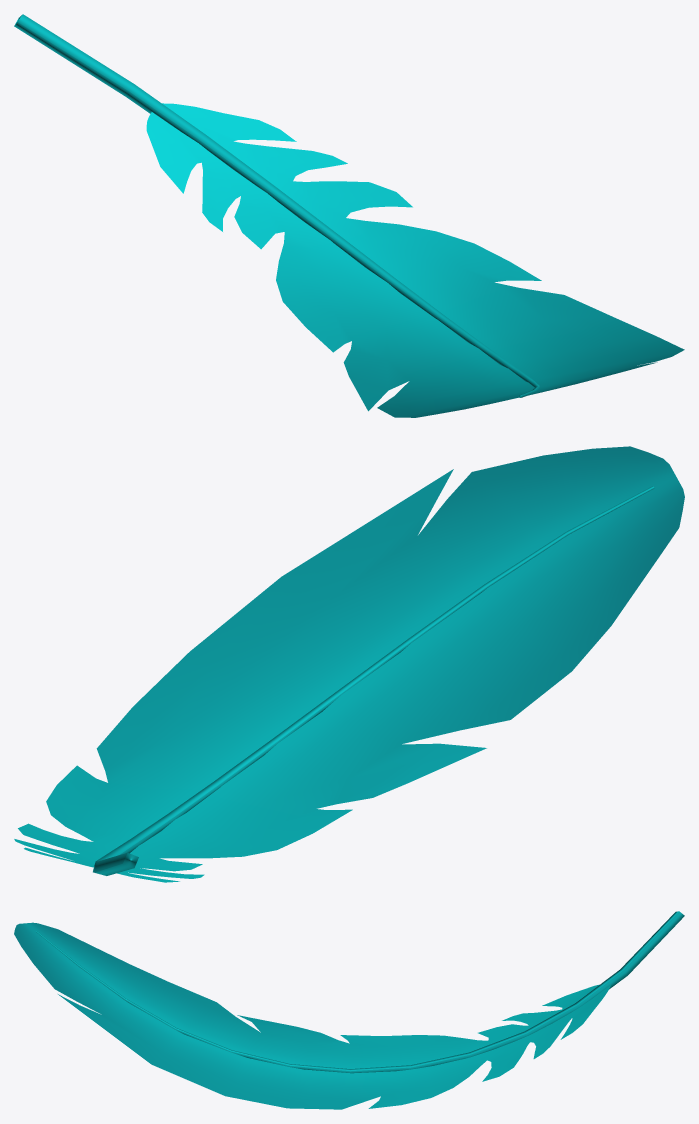
The model's file is animals-animalparts-whitefeather_v1.fbx.
3 renders of one model, top to bottom at view 1: azimuth 30°, elevation 25°; view 2: azimuth 150°, elevation 25°; view 3: azimuth 270°, elevation 25°, orthographic. The views are drawn at different scales.
Visible parts, largest first — view 1: WhiteFeather_v1; view 2: WhiteFeather_v1; view 3: WhiteFeather_v1.
Boxes of the visible parts, x1,y1,x2,y2 form: WhiteFeather_v1: (14,14,684,417); WhiteFeather_v1: (14,446,684,882); WhiteFeather_v1: (14,911,684,1109).
Size of the model in its own units: 0.6031 by 0.2953 by 1.65.
